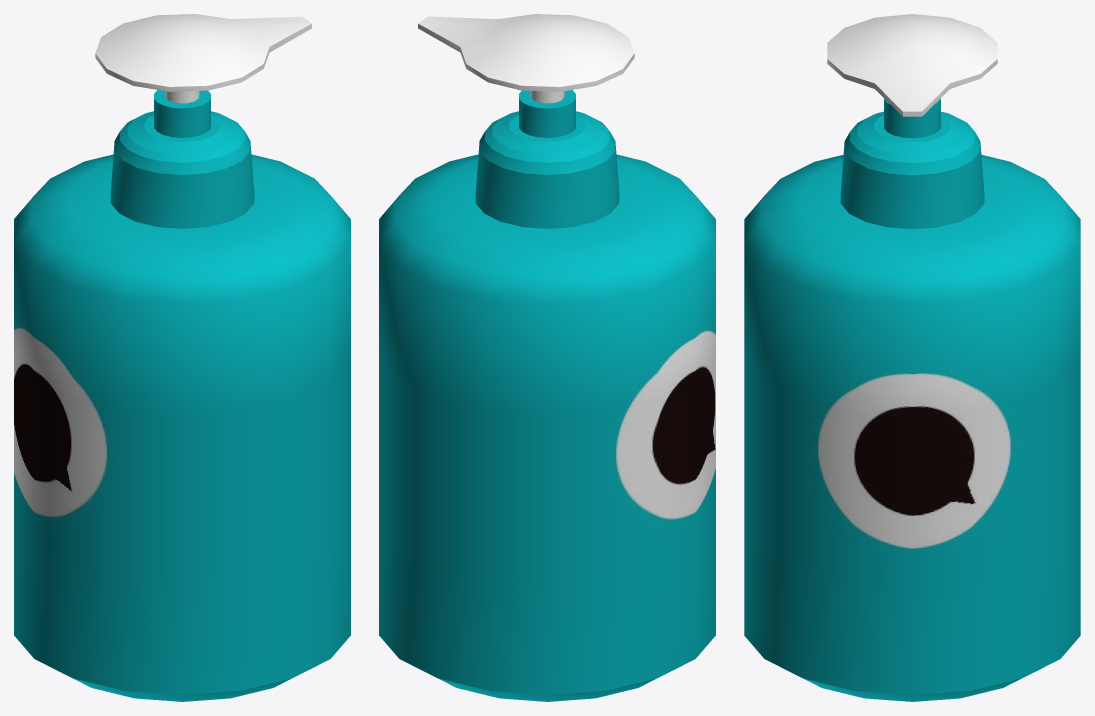
File: bottle.gltf
The picture shows the model from 3 angles, left to right: view 1: azimuth 30°, elevation 25°; view 2: azimuth 150°, elevation 25°; view 3: azimuth 270°, elevation 25°; orthographic projection.
Parts seen in each view (by area): view 1: Disc, Disc.2; view 2: Disc, Disc.2; view 3: Disc, Disc.2.
Boxes of the visible parts, box(x1,y1,x2,y2) form: Disc: box(14, 90, 350, 701); Disc.2: box(95, 14, 311, 103); Disc: box(379, 90, 715, 701); Disc.2: box(418, 14, 634, 103); Disc: box(744, 98, 1080, 701); Disc.2: box(827, 14, 997, 116).
Bounding box in the file's own units: 111 × 221 × 109.
Materials: 2 (1 with a texture image).
